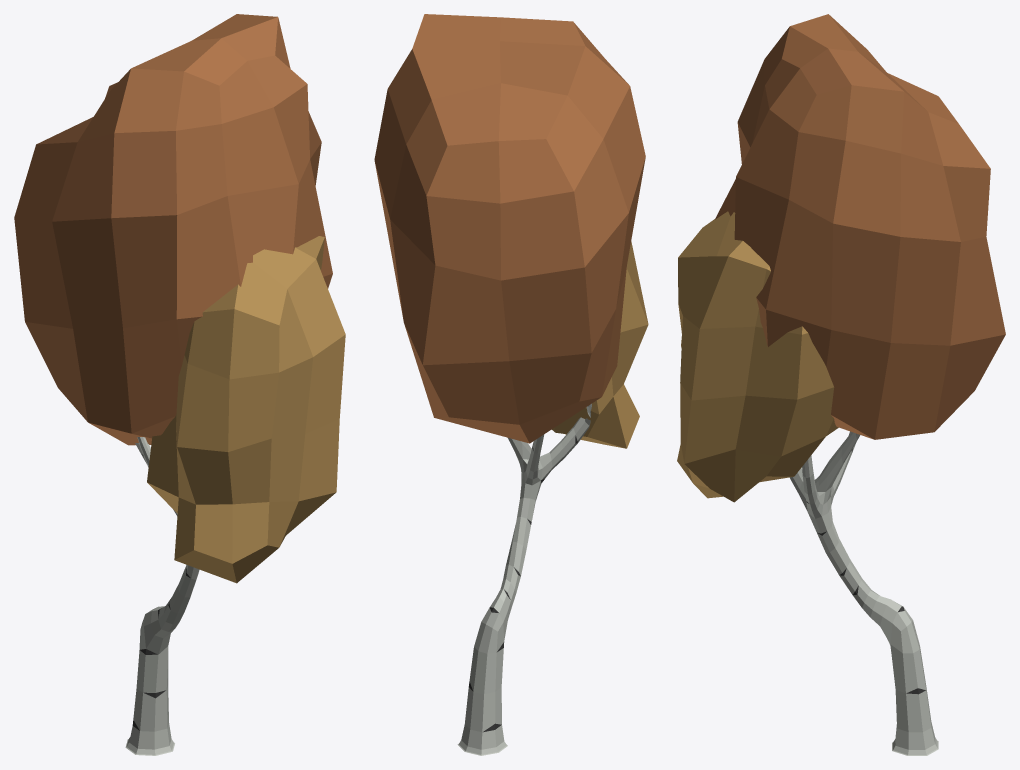
Rendered from BirchTree_Autumn_2.gltf.
The picture shows the model from 3 angles, left to right: view 1: azimuth 30°, elevation 25°; view 2: azimuth 150°, elevation 25°; view 3: azimuth 270°, elevation 25°; orthographic projection. The views are drawn at different scales.
Parts seen in each view (by area): view 1: BirchTree_Autumn_2; view 2: BirchTree_Autumn_2; view 3: BirchTree_Autumn_2.
Part boxes in pixels (x1,y1,x2,y2): BirchTree_Autumn_2: [14, 14, 345, 755]; BirchTree_Autumn_2: [374, 14, 648, 755]; BirchTree_Autumn_2: [677, 14, 1005, 755].
Size of the model in its own units: 1.47 by 4.03 by 1.69.
